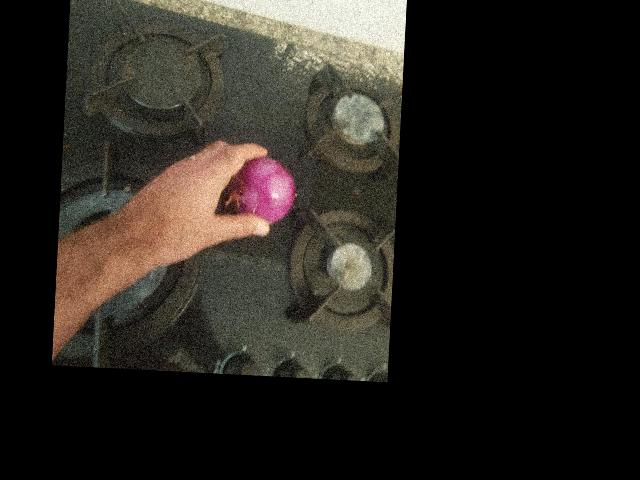onion: (299, 32, 364, 98)
